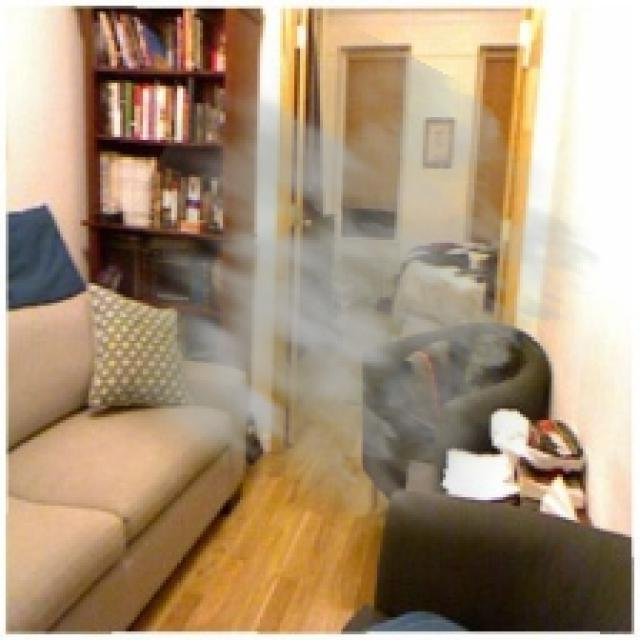Smoke: (48, 17, 603, 549)
